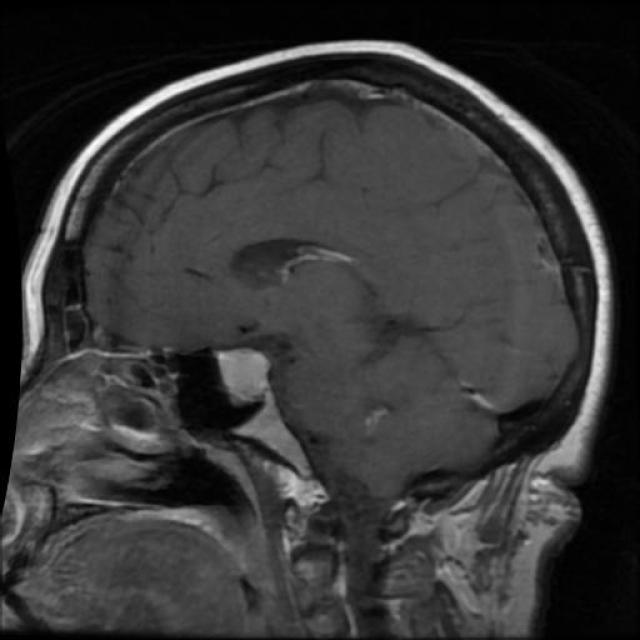pituitary: (194, 326, 304, 422)
